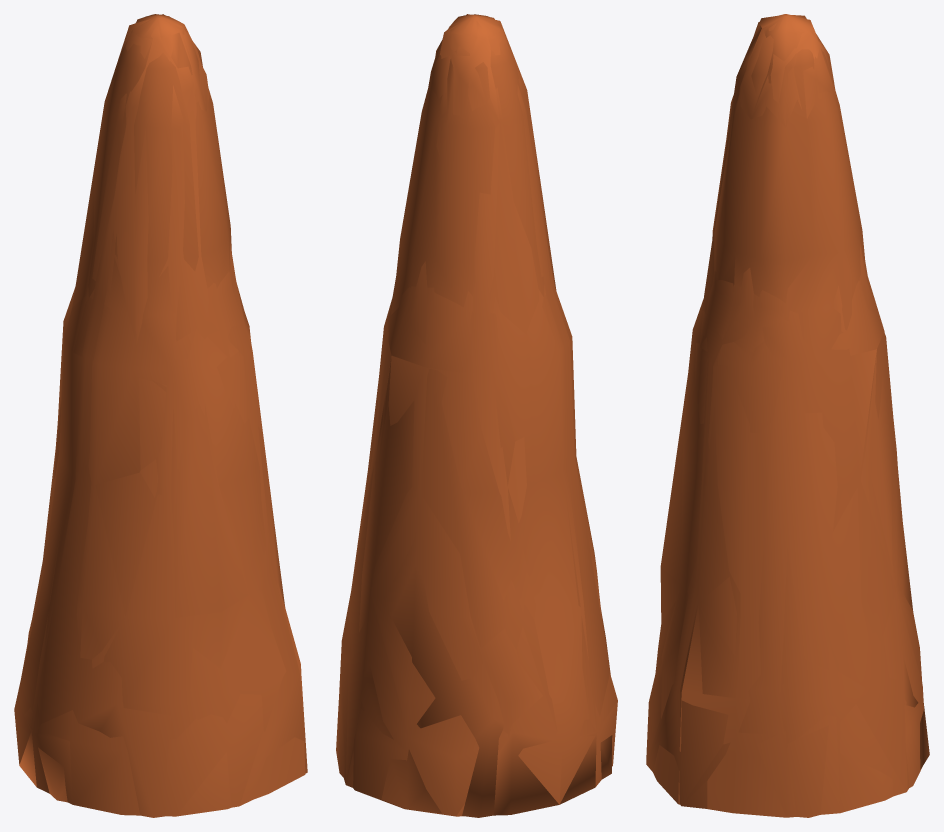
File: Stalagmites_Large_1.obj
3 views of the same model, side by side, from view 1: azimuth 30°, elevation 25°; view 2: azimuth 150°, elevation 25°; view 3: azimuth 270°, elevation 25° (orthographic).
Visible parts, largest first — view 1: Stalagmite_Large_1_LOD_0_Mesh, Stalagmite_Large_1_LOD_1_Mesh, Stalagmite_Large_1_LOD_2_Mesh; view 2: Stalagmite_Large_1_LOD_0_Mesh, Stalagmite_Large_1_LOD_2_Mesh, Stalagmite_Large_1_LOD_1_Mesh; view 3: Stalagmite_Large_1_LOD_0_Mesh, Stalagmite_Large_1_LOD_1_Mesh, Stalagmite_Large_1_LOD_2_Mesh.
Part boxes in pixels (<box>): Stalagmite_Large_1_LOD_0_Mesh: <box>14,14,305,816</box>; Stalagmite_Large_1_LOD_1_Mesh: <box>19,16,307,816</box>; Stalagmite_Large_1_LOD_2_Mesh: <box>21,14,307,817</box>; Stalagmite_Large_1_LOD_0_Mesh: <box>336,14,617,808</box>; Stalagmite_Large_1_LOD_2_Mesh: <box>345,14,612,817</box>; Stalagmite_Large_1_LOD_1_Mesh: <box>339,14,617,816</box>; Stalagmite_Large_1_LOD_0_Mesh: <box>646,14,923,817</box>; Stalagmite_Large_1_LOD_1_Mesh: <box>646,14,923,817</box>; Stalagmite_Large_1_LOD_2_Mesh: <box>646,15,929,817</box>.
Size of the model in its own units: 1.96 by 5.64 by 1.95.
